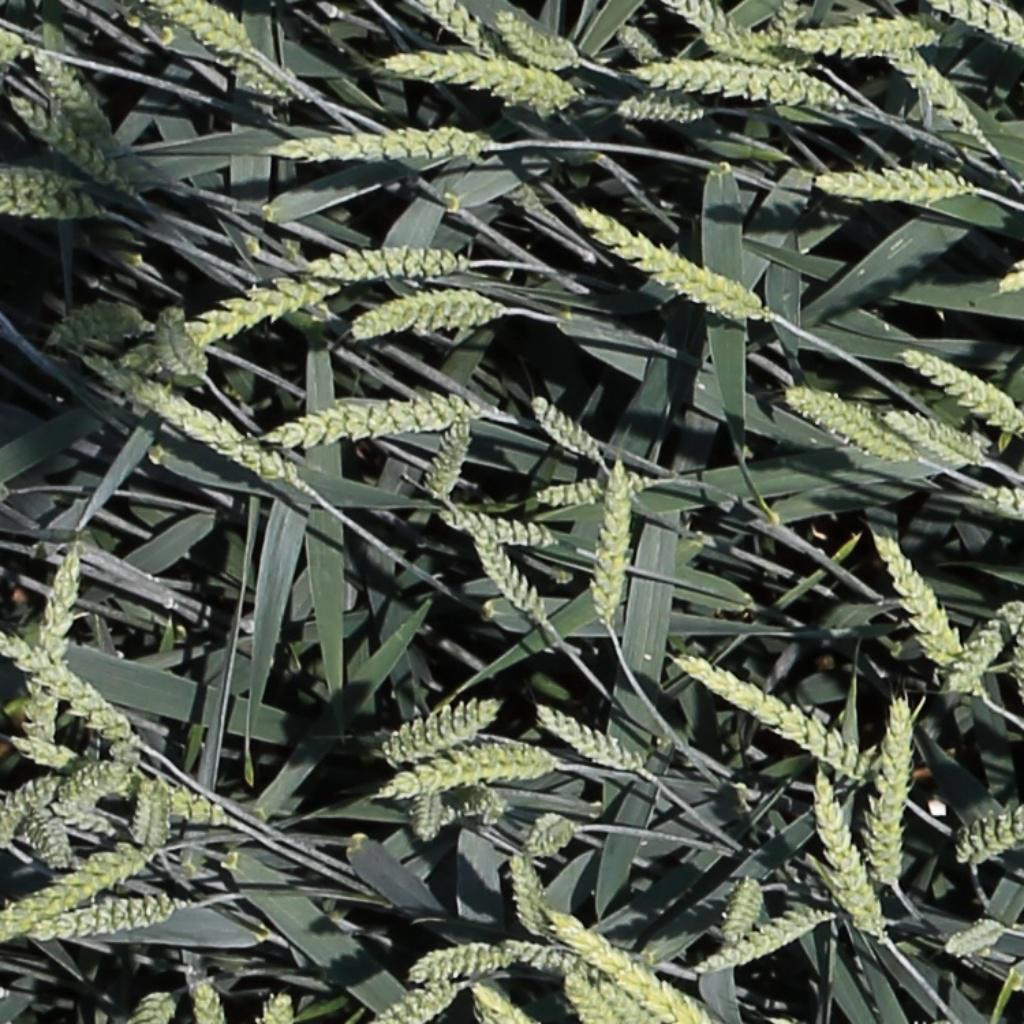0-0: (72, 350, 305, 488), (668, 651, 872, 783), (576, 204, 773, 324), (858, 0, 999, 163), (538, 906, 725, 1024), (608, 40, 843, 123), (29, 536, 129, 714), (0, 832, 161, 940), (2, 636, 152, 741), (270, 380, 499, 442), (9, 90, 136, 196), (375, 740, 566, 807), (808, 772, 884, 940), (869, 527, 959, 662), (263, 118, 498, 168), (174, 12, 294, 107), (353, 274, 502, 344), (901, 346, 1024, 428), (868, 694, 919, 890), (20, 38, 113, 143), (3, 880, 191, 931), (696, 906, 832, 974), (786, 386, 907, 461), (382, 696, 512, 765), (464, 529, 552, 628), (661, 0, 783, 66), (304, 240, 475, 287), (593, 458, 639, 629), (389, 54, 574, 96), (807, 166, 977, 211), (533, 707, 640, 774), (937, 604, 1011, 698), (0, 166, 110, 228), (402, 938, 520, 986), (525, 391, 600, 464), (129, 775, 194, 854), (887, 410, 984, 462), (420, 0, 501, 62), (0, 778, 65, 853), (937, 1, 1024, 57), (532, 460, 643, 503), (155, 300, 208, 390), (421, 412, 471, 505), (494, 10, 576, 66), (23, 724, 97, 786), (954, 801, 1024, 866), (159, 1, 249, 49), (15, 802, 72, 876), (505, 849, 548, 943), (441, 510, 548, 546), (501, 942, 599, 981), (376, 980, 457, 1022), (787, 30, 933, 53), (720, 873, 763, 950), (51, 763, 128, 806), (47, 307, 139, 342), (558, 969, 613, 1024), (521, 810, 582, 857), (458, 781, 518, 825), (411, 777, 447, 849), (466, 980, 524, 1024), (758, 0, 802, 57), (178, 784, 243, 822), (49, 801, 111, 838), (595, 978, 647, 1022), (613, 20, 662, 66), (944, 921, 1004, 957), (111, 726, 139, 802), (981, 486, 1024, 535), (187, 973, 221, 1024), (613, 98, 704, 116), (131, 993, 172, 1024), (262, 985, 289, 1024)
